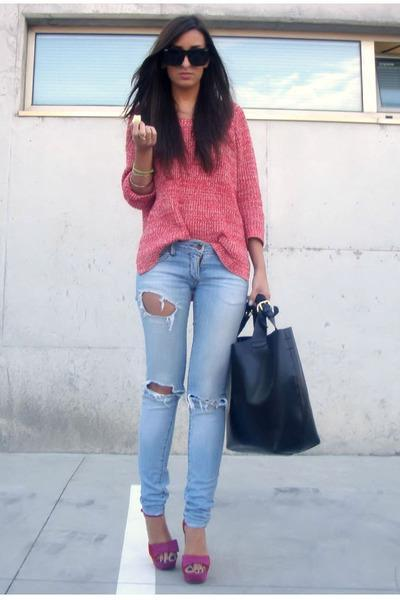sweater: (120, 93, 268, 275)
trousers: (121, 233, 252, 527)
